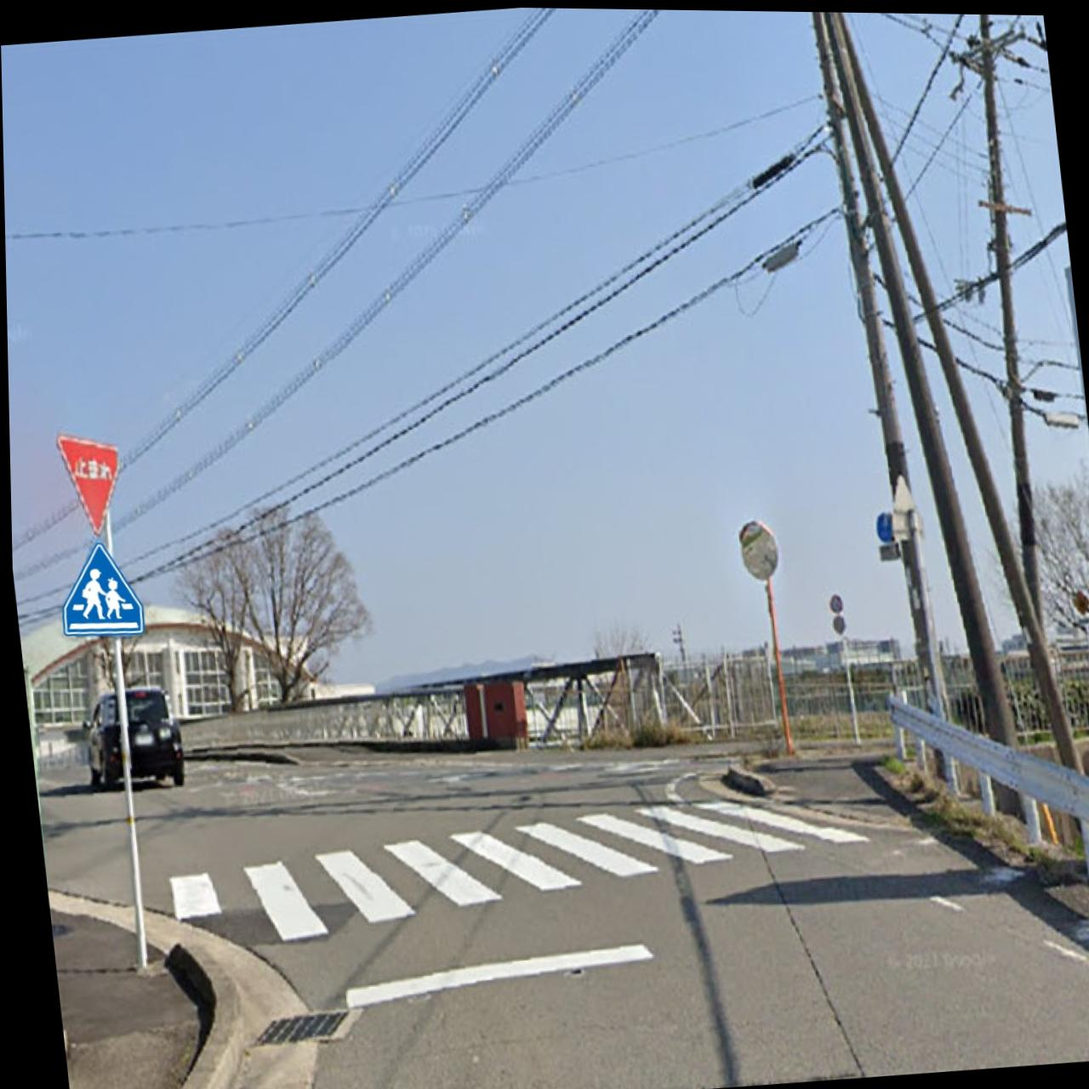cone: (30, 297, 94, 932)
